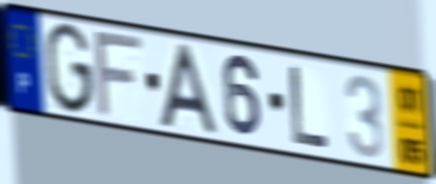3: (344, 73, 385, 160)
6: (221, 53, 264, 140)
A: (157, 41, 221, 139)
F: (91, 30, 146, 120)
G: (44, 20, 95, 118)
L: (286, 62, 332, 151)
